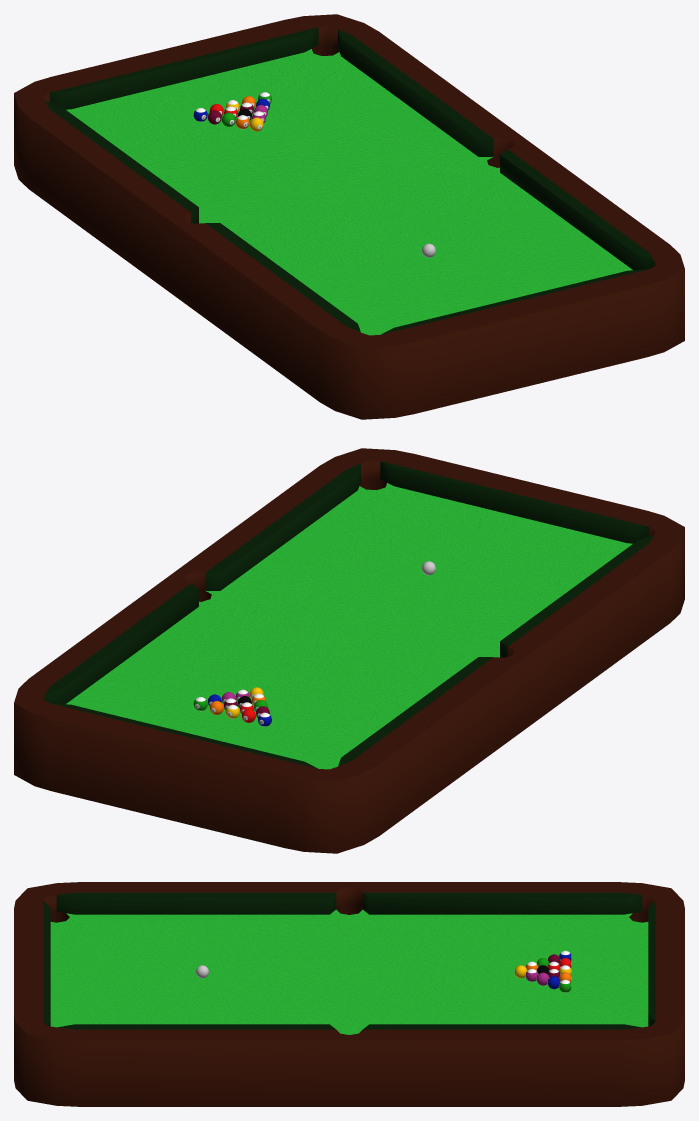
Rendered from Pool.obj.
The picture shows the model from 3 angles, top to bottom: view 1: azimuth 30°, elevation 25°; view 2: azimuth 150°, elevation 25°; view 3: azimuth 270°, elevation 25°; orthographic projection. The views are drawn at different scales.
Visible parts, largest first — view 1: PlaneField, Table, Rim; view 2: PlaneField, Table, Rim; view 3: Table, PlaneField, Rim.
Part boxes in pixels (<box>): PlaneField: <box>66,49,632,335</box>; Table: <box>14,14,684,419</box>; Rim: <box>44,27,654,334</box>; PlaneField: <box>66,483,632,769</box>; Table: <box>14,448,684,853</box>; Rim: <box>44,461,654,768</box>; Table: <box>14,882,684,1106</box>; PlaneField: <box>50,909,648,1034</box>; Rim: <box>43,892,655,1029</box>.
Size of the model in its own units: 1.53 by 0.3 by 2.74.
19 materials, 16 textured.
